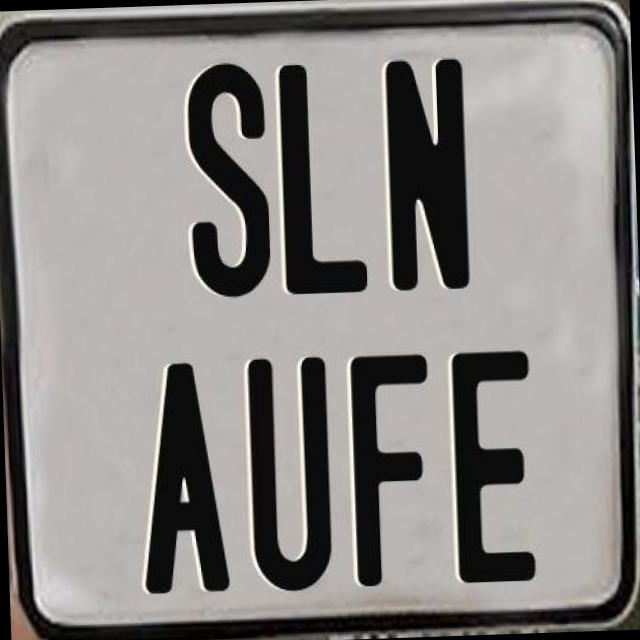A: (134, 357, 233, 597)
E: (446, 350, 540, 582)
F: (348, 352, 434, 592)
L: (276, 61, 368, 301)
N: (383, 54, 471, 288)
S: (182, 56, 268, 302)
U: (246, 353, 336, 591)
